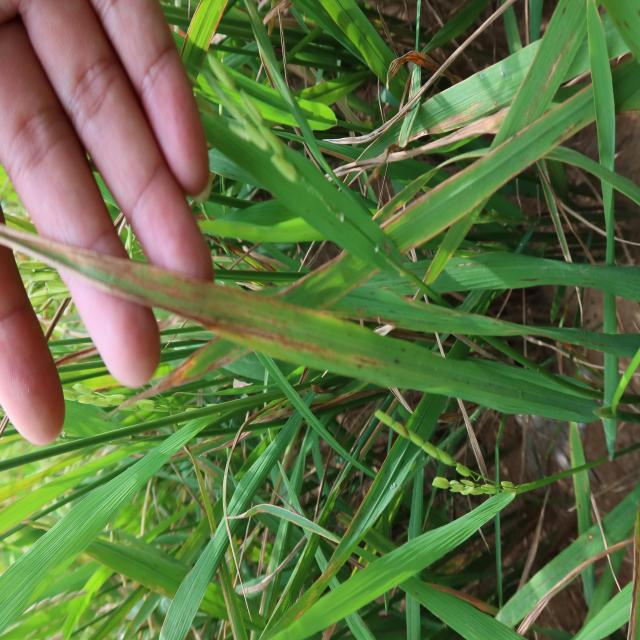Dom soc vi khuan: (0, 219, 404, 388)
